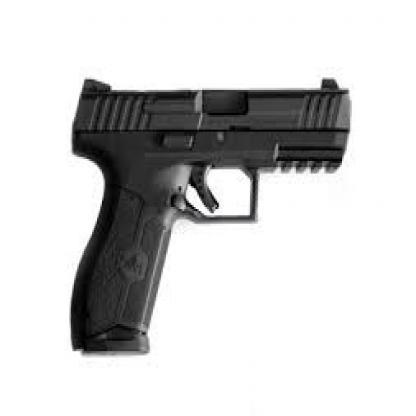Pistol: (63, 69, 350, 354)
